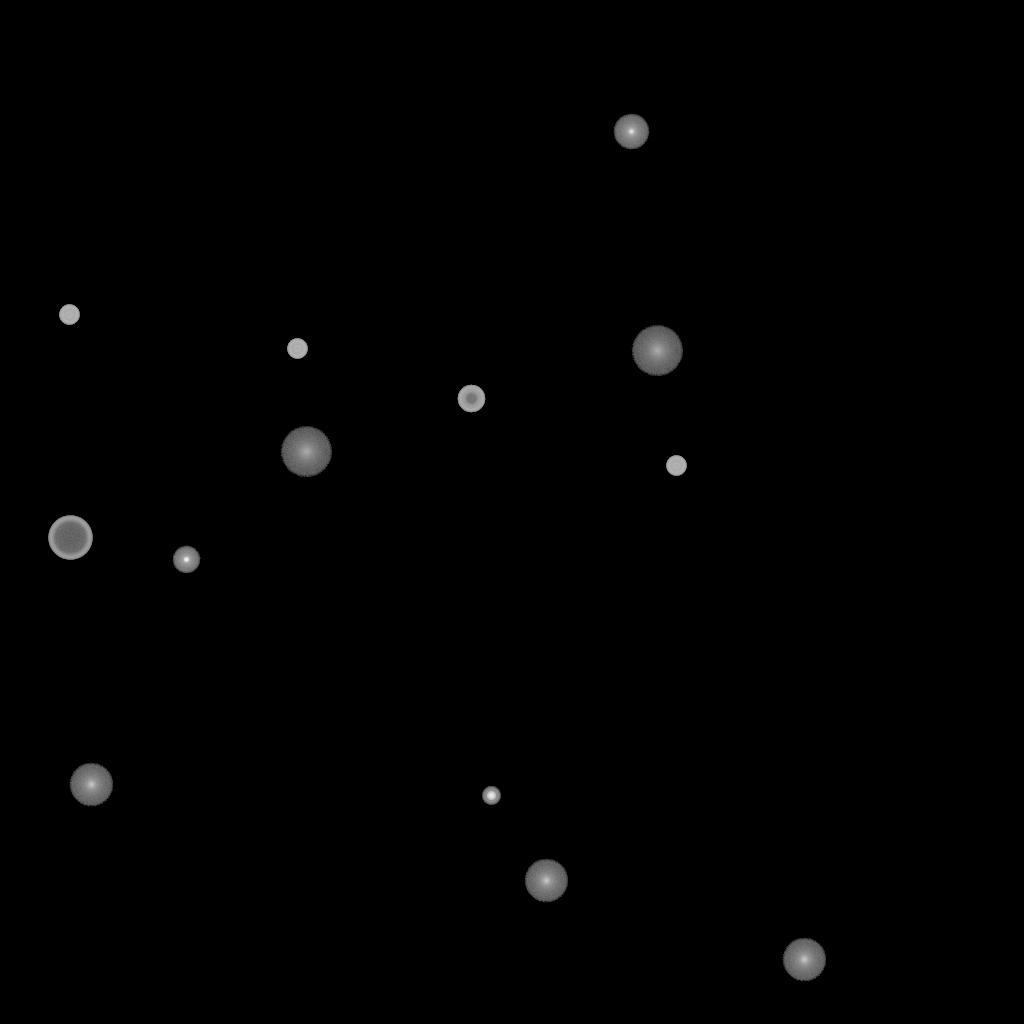depth:-10: (172, 546, 200, 574)
depth:-20: (482, 787, 500, 805)
depth:-40: (287, 339, 307, 359), (666, 456, 686, 476), (59, 305, 79, 325)
depth:-50: (457, 385, 485, 413)
depth:-70: (48, 516, 92, 560)
depth:0: (613, 114, 649, 150)
depth:10: (782, 938, 826, 982), (524, 859, 568, 903), (69, 763, 113, 807)
depth:20: (280, 427, 332, 477), (631, 326, 683, 376)
